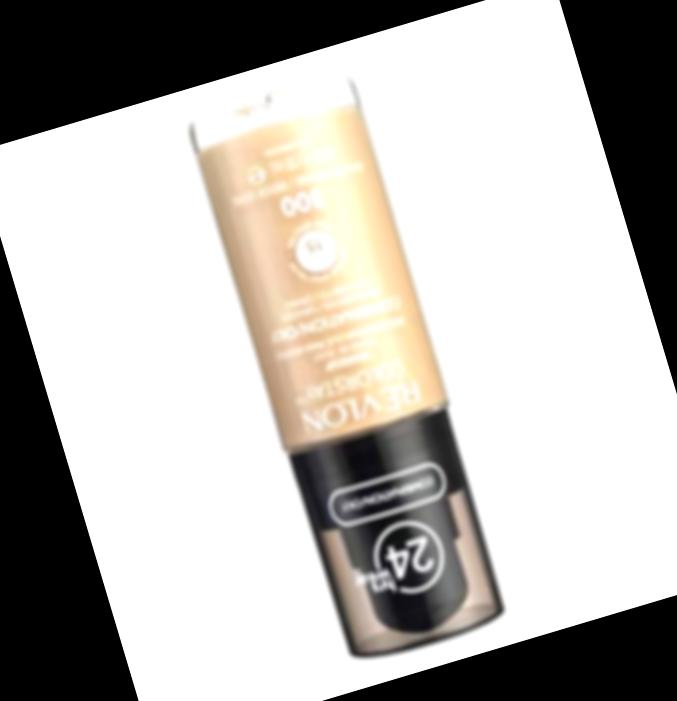cosmetic: (182, 74, 514, 668)
